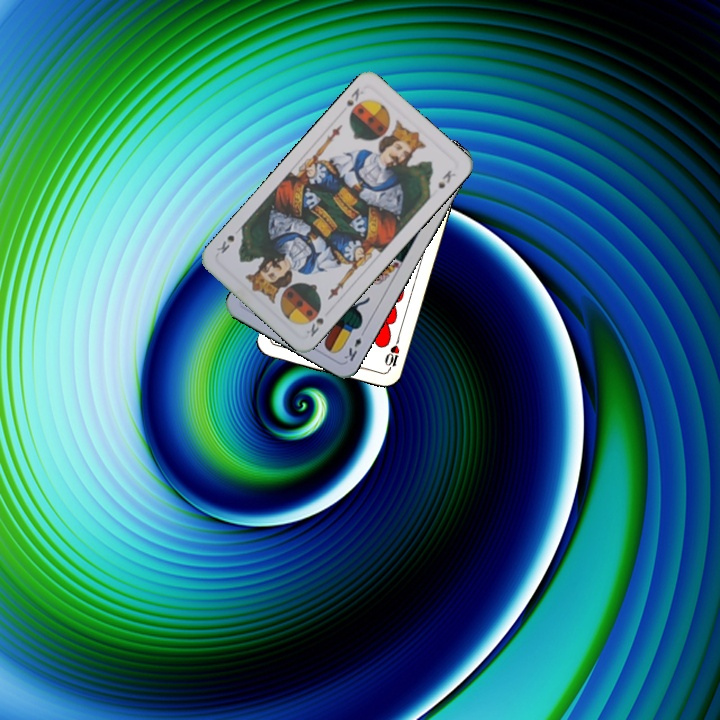EK: (340, 326, 368, 364)
H10: (380, 335, 402, 375)
SK: (336, 84, 367, 117), (302, 313, 326, 340)
